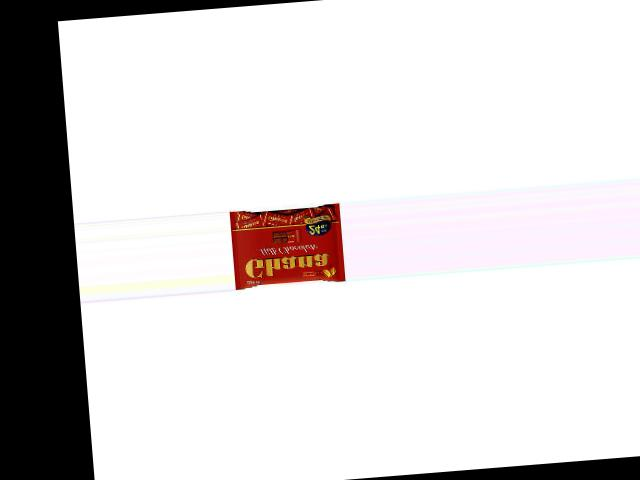chocolate: (231, 200, 347, 287)
